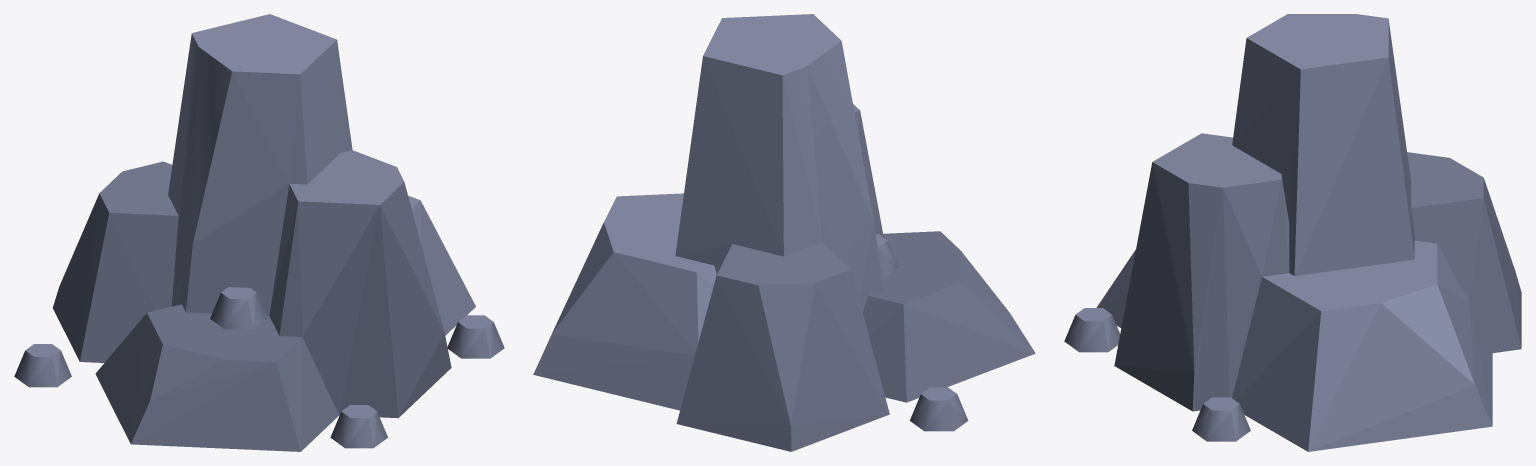
The model's file is fantasytown_rock_large.glb.
3 views of the same model, side by side, from view 1: azimuth 30°, elevation 25°; view 2: azimuth 150°, elevation 25°; view 3: azimuth 270°, elevation 25° (orthographic). The views are drawn at different scales.
Parts seen in each view (by area): view 1: fantasytown_rock_large; view 2: fantasytown_rock_large; view 3: fantasytown_rock_large.
Part boxes in pixels (box(x1,y1,x2,y2)): fantasytown_rock_large: box(14, 14, 504, 451); fantasytown_rock_large: box(533, 14, 1035, 451); fantasytown_rock_large: box(1064, 14, 1521, 451).
Bounding box in the file's own units: 1.67 × 1.16 × 1.55.
